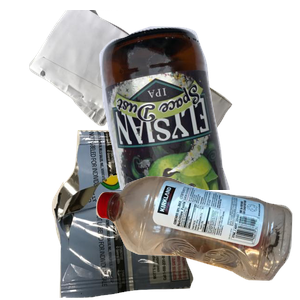glass: (97, 24, 300, 204)
paper: (27, 10, 252, 187)
plastic: (93, 173, 300, 300)
trash: (49, 130, 235, 300)
